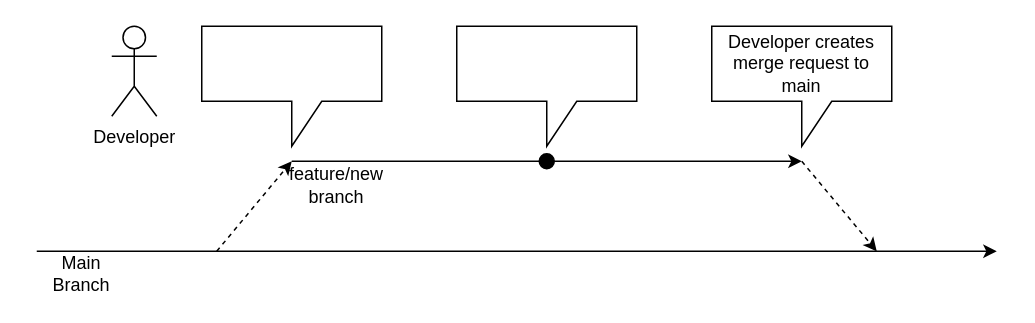
Image size: 1035x323. Some labels were removed from this diagram. The shapes that lost their labels are listed below. From the top down, each one's centre as x and y in pixels, then its label:
At point (291, 85): "Developer creates feature branch feature/new".
At point (546, 85): "Developer pushes feature/new and triggers pipeline".
